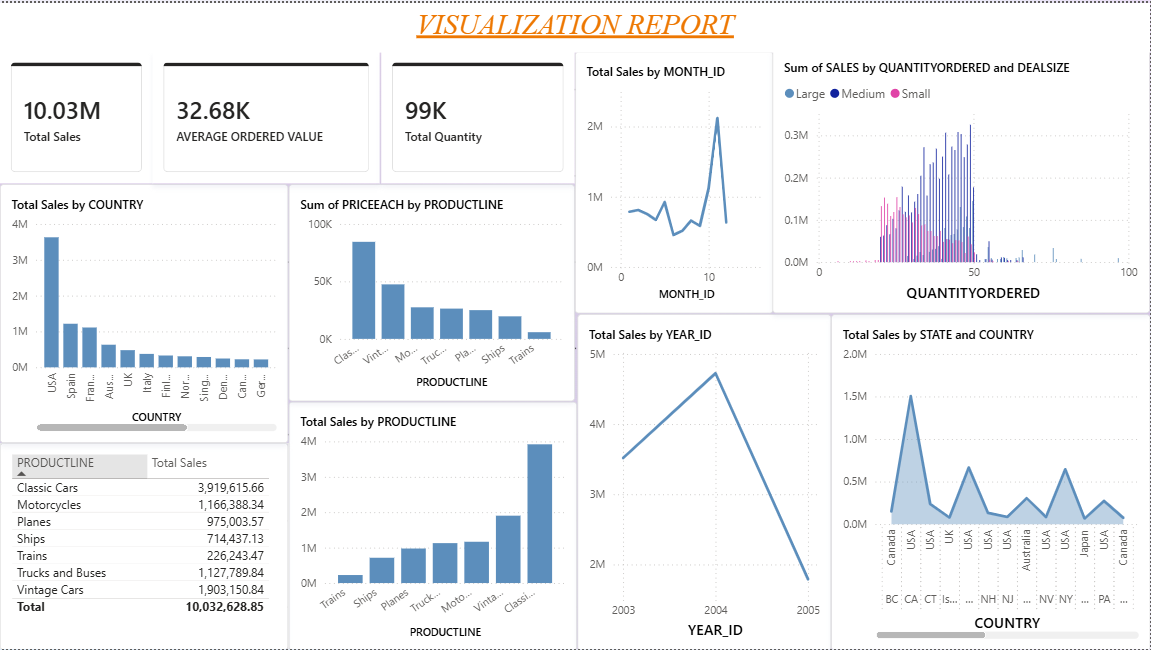

The page's visual inventory and layout, read from the dashboard file:
{"tool":"powerbi","page":{"name":"Page 1","canvas":[1280,720],"ordinal":0},"visuals":[{"type":"columnChart","fields":{"Category":["SECRET.PRODUCTLINE"],"Y":["SECRET.Total Sales"]},"box":[321.1,443.2,321.1,277.2],"z":0},{"type":"cardVisual","fields":{"Data":["SECRET.Total Sales"]},"box":[0,54.9,170.2,146.8],"z":1000},{"type":"tableEx","fields":{"Values":["SECRET.PRODUCTLINE","SECRET.Total Sales"]},"box":[0,489.9,321.1,230.5],"z":2000},{"type":"actionButton","box":[0,0,100,40],"z":3000},{"type":"clusteredColumnChart","fields":{"Category":["SECRET.COUNTRY"],"Y":["SECRET.Total Sales"]},"box":[0,201.7,321.1,288.2],"z":4000},{"type":"clusteredColumnChart","fields":{"Y":["Sum(SECRET.PRICEEACH)"],"Category":["SECRET.PRODUCTLINE"]},"box":[321.1,201.7,318.4,241.5],"z":5000},{"type":"lineChart","fields":{"Category":["SECRET.MONTH_ID"],"Y":["SECRET.Total Sales"]},"box":[639.5,54.9,220.9,290.9],"z":6000},{"type":"lineChart","fields":{"Category":["SECRET.YEAR_ID"],"Y":["SECRET.Total Sales"]},"box":[642.2,345.8,282.7,374.6],"z":7000},{"type":"areaChart","fields":{"Category":["SECRET.STATE","SECRET.COUNTRY"],"Y":["SECRET.Total Sales"]},"box":[924.9,345.8,355.4,374.6],"z":8000},{"type":"clusteredColumnChart","fields":{"Category":["SECRET.QUANTITYORDERED"],"Y":["Sum(SECRET.SALES)"],"Series":["SECRET.DEALSIZE"]},"box":[860.4,50.8,419.9,295],"z":9000},{"type":"cardVisual","fields":{"Data":["SECRET.AVERAGE ORDERED VALUE"]},"box":[170.2,54.9,253.9,146.8],"z":9001},{"type":"cardVisual","fields":{"Data":["SECRET.Total Quantity"]},"box":[424,54.9,215.4,146.8],"z":9002},{"type":"textbox","box":[0,0,1280.3,54.9],"z":9003}]}

Visuals, with their boxes in screenshot pixels (x1, y1, x2, y2), scaled from the page's 1280x720 canvas onto the 1151x650 screenshot:
columnChart - SECRET.PRODUCTLINE x SECRET.Total Sales: [x1=289, y1=400, x2=577, y2=649]
cardVisual - SECRET.Total Sales: [x1=0, y1=50, x2=153, y2=182]
tableEx - SECRET.PRODUCTLINE x SECRET.Total Sales: [x1=0, y1=442, x2=289, y2=649]
actionButton: [x1=0, y1=0, x2=90, y2=36]
clusteredColumnChart - SECRET.COUNTRY x SECRET.Total Sales: [x1=0, y1=182, x2=289, y2=442]
clusteredColumnChart - Sum(SECRET.PRICEEACH) x SECRET.PRODUCTLINE: [x1=289, y1=182, x2=575, y2=400]
lineChart - SECRET.MONTH_ID x SECRET.Total Sales: [x1=575, y1=50, x2=774, y2=312]
lineChart - SECRET.YEAR_ID x SECRET.Total Sales: [x1=577, y1=312, x2=832, y2=649]
areaChart - SECRET.STATE x SECRET.COUNTRY: [x1=832, y1=312, x2=1150, y2=649]
clusteredColumnChart - SECRET.QUANTITYORDERED x Sum(SECRET.SALES): [x1=774, y1=46, x2=1150, y2=312]
cardVisual - SECRET.AVERAGE ORDERED VALUE: [x1=153, y1=50, x2=381, y2=182]
cardVisual - SECRET.Total Quantity: [x1=381, y1=50, x2=575, y2=182]
textbox: [x1=0, y1=0, x2=1150, y2=50]
